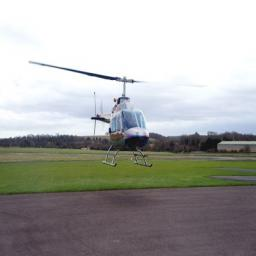helicopter: (82, 67, 173, 181)
